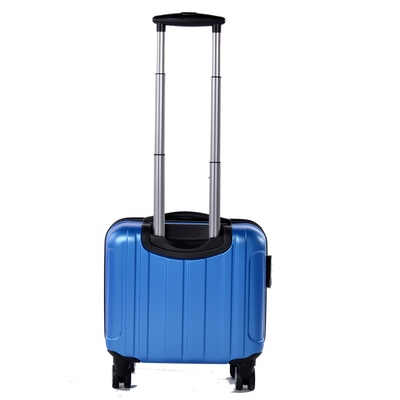luggage: (103, 11, 272, 392)
